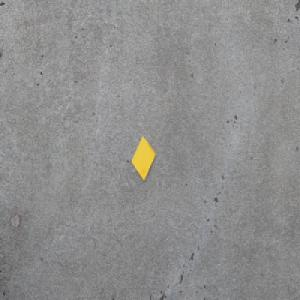PlasticPart: (130, 135, 156, 182)
